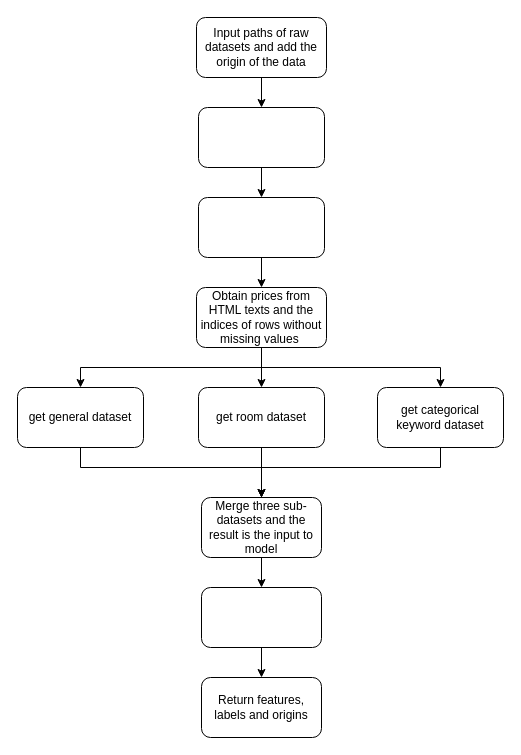
Some shapes in this 521 by 755 pixel diagram are drawn without their labels. Here are the shapes that lost their labels. From the top down, the centre of each, then its label:
At (x=261, y=137): "Extract postcode from full address if necessary".
At (x=261, y=227): "Concatenate all the datasets".
At (x=261, y=617): "Get labels and origin dataset".
